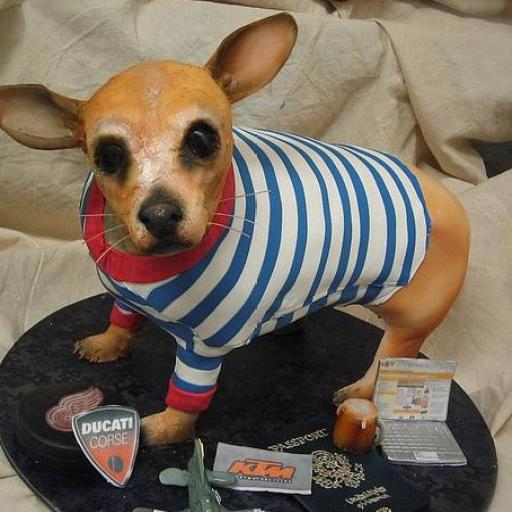dog_face: (0, 21, 293, 249)
